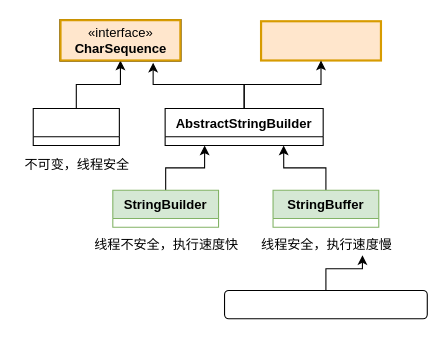
Some shapes in this 447 by 338 pixel diagram are drawn without their labels. The shapes that lost their labels are listed below. From the top down, each one's centre as x and y in pixels, then its label:
At point (320, 40): "«interface» Appendable".
At point (75, 126): "String".
At point (325, 304): "内部使用 synchronized 进行同步".
